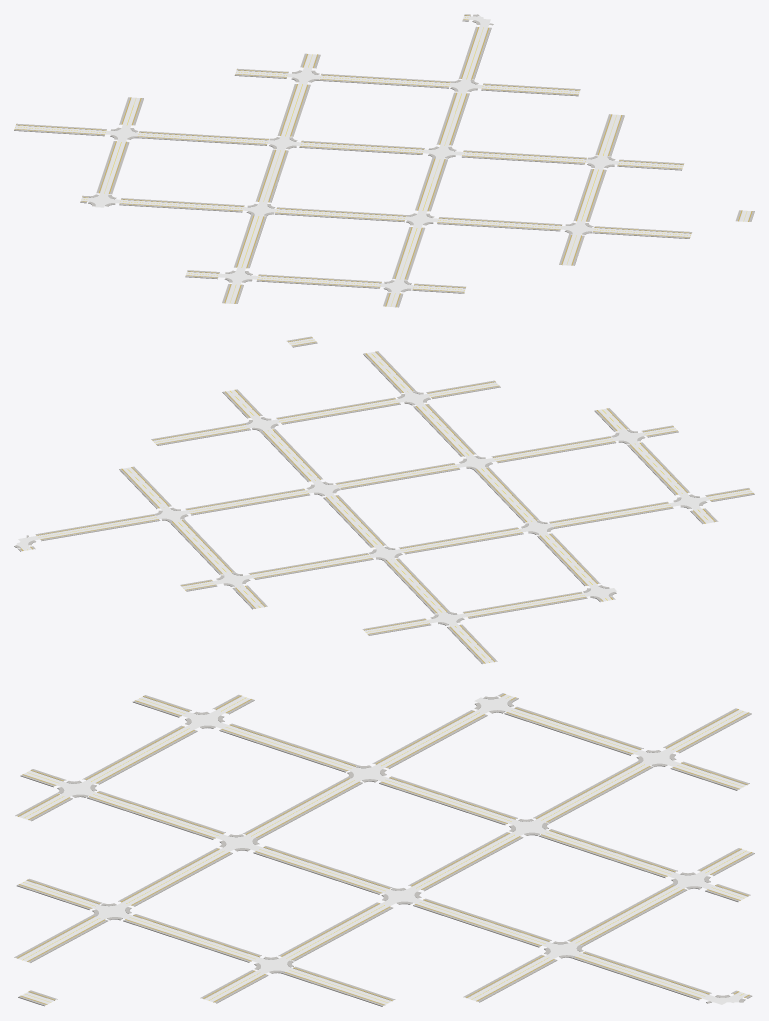
Rendered from roads_0_2.gltf.
3 renders of one model, top to bottom at view 1: azimuth 30°, elevation 25°; view 2: azimuth 150°, elevation 25°; view 3: azimuth 270°, elevation 25°, orthographic. The views are drawn at different scales.
Parts seen in each view (by area): view 1: roads_0_2_SH_wet_asphalt, roads_0_2_SH_sidewalk, roads_0_2_Road_Tactile_Strip, roads_0_2_SH_kerb, roads_0_2_SH_road_marking_white, roads_0_2_SH_road_marking_yellow; view 2: roads_0_2_SH_wet_asphalt, roads_0_2_SH_sidewalk, roads_0_2_Road_Tactile_Strip, roads_0_2_SH_kerb, roads_0_2_SH_road_marking_white, roads_0_2_SH_road_marking_yellow; view 3: roads_0_2_SH_wet_asphalt, roads_0_2_SH_sidewalk, roads_0_2_Road_Tactile_Strip, roads_0_2_SH_kerb, roads_0_2_SH_road_marking_yellow, roads_0_2_SH_road_marking_white.
Boxes of the visible parts, x1,y1,x2,y2 form: roads_0_2_SH_wet_asphalt: (14,15,750,307); roads_0_2_SH_sidewalk: (14,14,754,307); roads_0_2_Road_Tactile_Strip: (14,15,752,306); roads_0_2_SH_kerb: (16,15,751,307); roads_0_2_SH_road_marking_white: (16,16,750,306); roads_0_2_SH_road_marking_yellow: (15,17,746,305); roads_0_2_SH_wet_asphalt: (16,338,752,663); roads_0_2_SH_sidewalk: (14,336,754,663); roads_0_2_Road_Tactile_Strip: (21,337,753,663); roads_0_2_SH_kerb: (19,338,751,663); roads_0_2_SH_road_marking_white: (22,338,748,662); roads_0_2_SH_road_marking_yellow: (27,339,751,662); roads_0_2_SH_wet_asphalt: (18,694,750,1004); roads_0_2_SH_sidewalk: (14,693,754,1006); roads_0_2_Road_Tactile_Strip: (17,694,751,1004); roads_0_2_SH_kerb: (17,694,751,1004); roads_0_2_SH_road_marking_yellow: (22,696,746,1002); roads_0_2_SH_road_marking_white: (18,694,750,1001).
Size of what is drawn, in the model's own units: 527 by 0.506 by 526.
